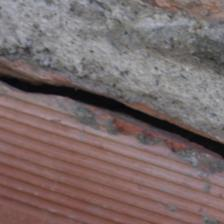Crack: (3, 30, 219, 127)
